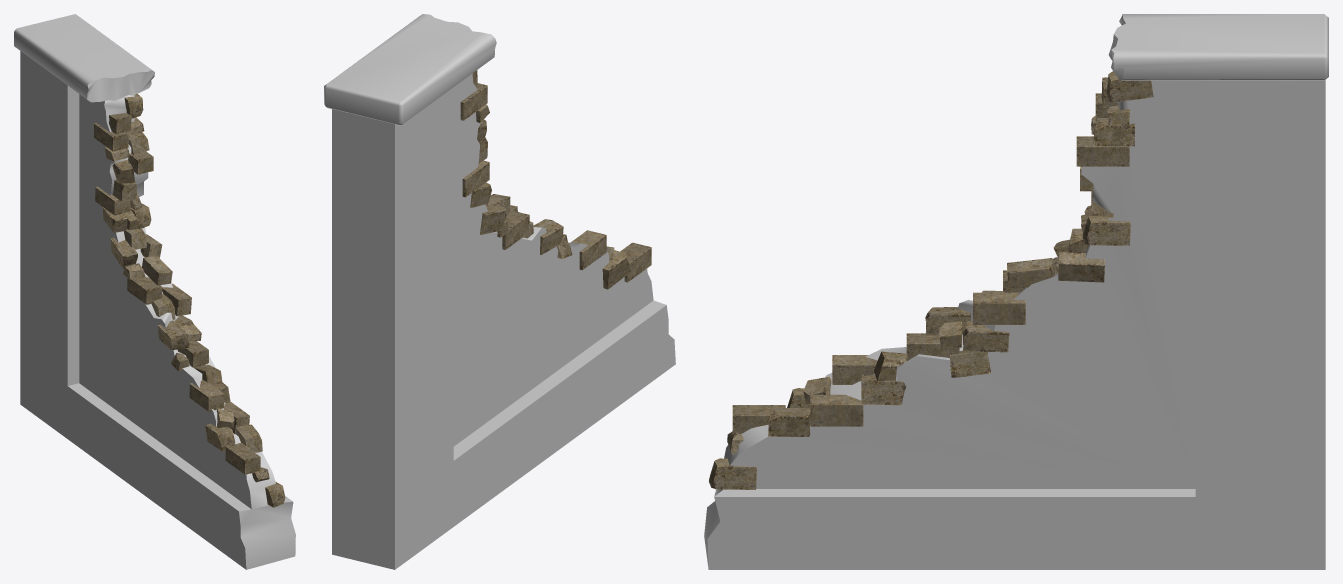
File: Wall1_el7.fbx
3 renders of one model, left to right at view 1: azimuth 30°, elevation 25°; view 2: azimuth 150°, elevation 25°; view 3: azimuth 270°, elevation 25°, orthographic. The views are drawn at different scales.
Parts seen in each view (by area): view 1: polySurface252; view 2: polySurface252; view 3: polySurface252.
Part boxes in pixels (box(x1,y1,x2,y2)): polySurface252: box(14, 14, 295, 569); polySurface252: box(324, 14, 675, 569); polySurface252: box(704, 14, 1328, 569).
Size of the model in its own units: 0.5617 by 3.15 by 3.44.
